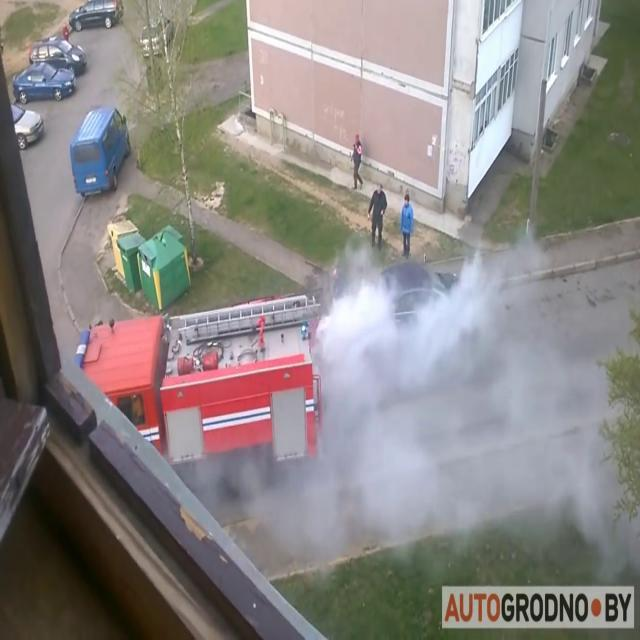Smoke: (286, 218, 638, 574)
